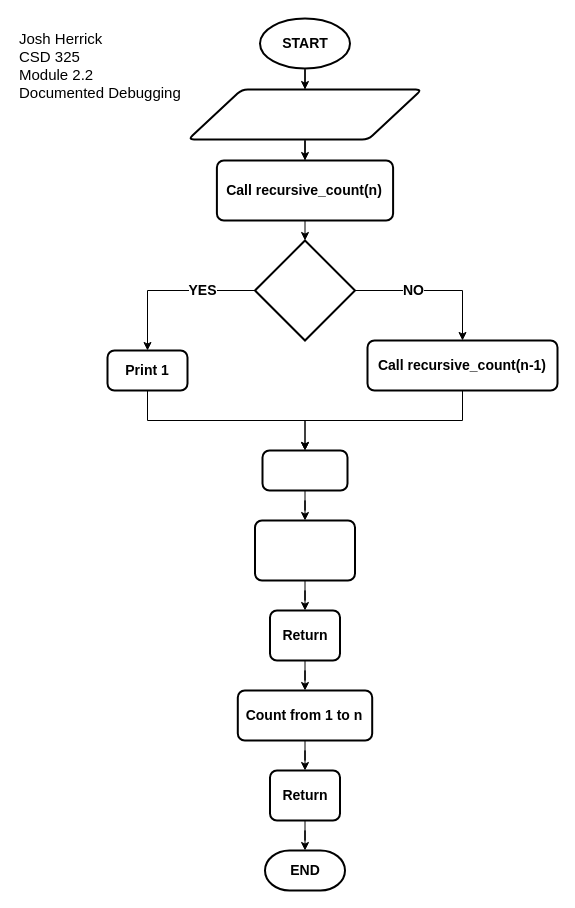
Image size: 575x908. Some labels were removed from this diagram. The shapes that lost their labels are listed below. From the top down, each one's box as (x1, y1, x2, y2) in pixels, then its label:
(187, 88, 422, 140): Get positive integer n
(254, 239, 356, 341): Is n == 1?
(261, 449, 348, 491): Print n
(254, 519, 356, 581): Print ending message
